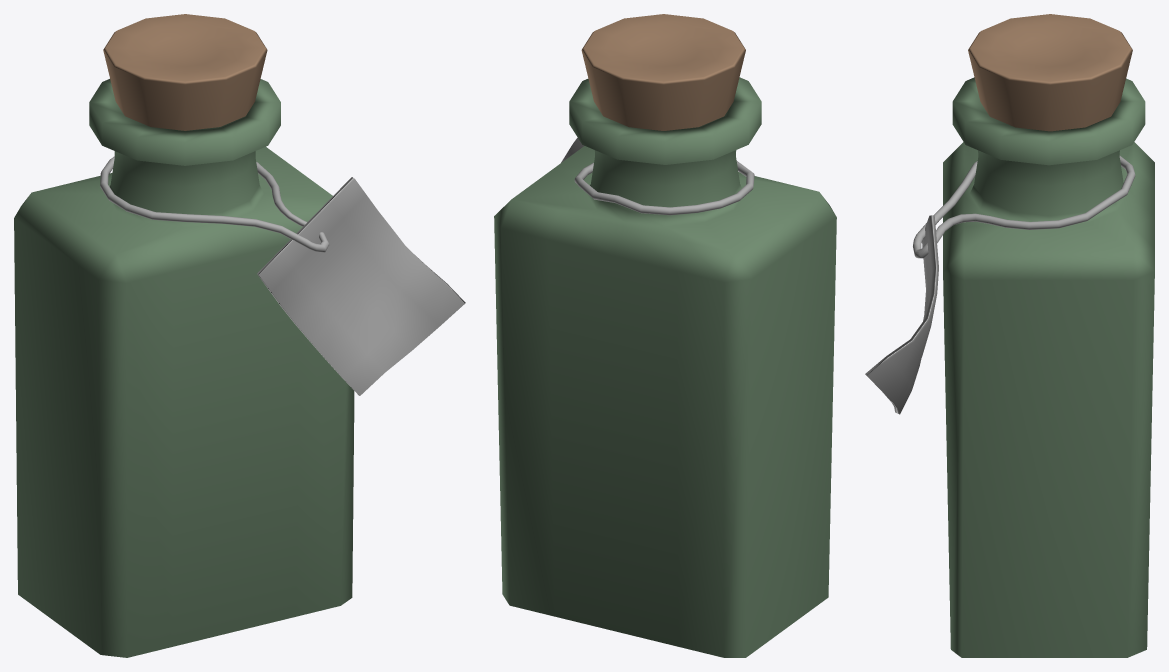
Rendered from youth_pot.fbx.
The picture shows the model from 3 angles, left to right: view 1: azimuth 30°, elevation 25°; view 2: azimuth 150°, elevation 25°; view 3: azimuth 270°, elevation 25°; orthographic projection.
Parts seen in each view (by area): view 1: pCylinder18, pPlane3, pCylinder9, pCylinder20; view 2: pCylinder18, pCylinder9, pCylinder20; view 3: pCylinder18, pCylinder9, pPlane3, pCylinder20.
Boxes of the visible parts, bbox=[...] form: pCylinder18: bbox=[14, 79, 354, 657]; pPlane3: bbox=[257, 177, 465, 395]; pCylinder9: bbox=[103, 14, 267, 130]; pCylinder20: bbox=[100, 156, 329, 252]; pCylinder18: bbox=[494, 77, 836, 657]; pCylinder9: bbox=[581, 14, 745, 130]; pCylinder20: bbox=[574, 161, 754, 215]; pCylinder18: bbox=[943, 77, 1154, 657]; pCylinder9: bbox=[968, 14, 1132, 131]; pPlane3: bbox=[865, 215, 938, 414]; pCylinder20: bbox=[913, 155, 1135, 258].
Size of the model in its own units: 7.65 by 12.52 by 5.98.
